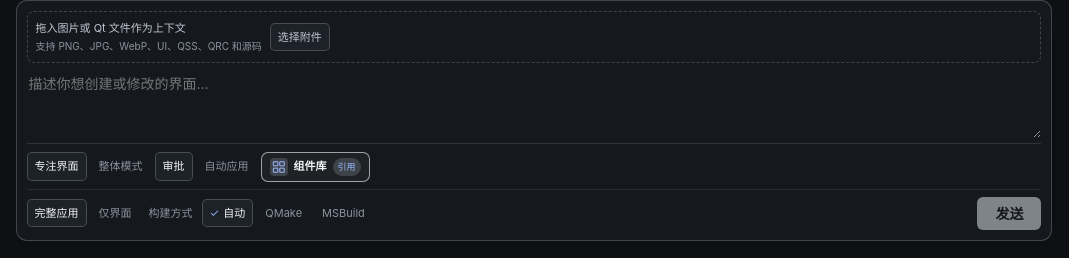
Test: TaskComposer build selection › uses readable segmented buttons and submits the selected backend
The width and height of the screenshot is (1069, 258).
Later steps or results of the test are not shown.
Click the button "QMake" at (284, 213), box [257,199,310,227]
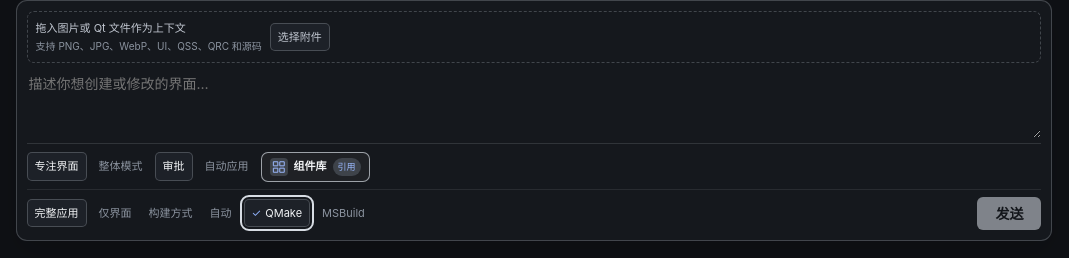
Check: the button "QMake" is pressed, box [244,199,310,227]
